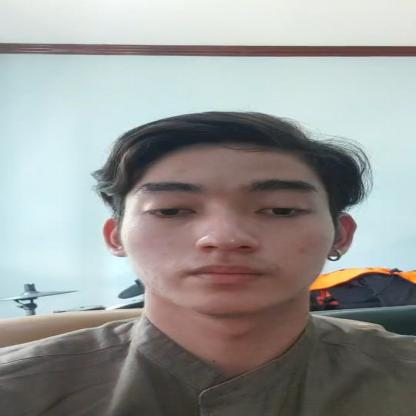Palm: (87, 106, 374, 322)
